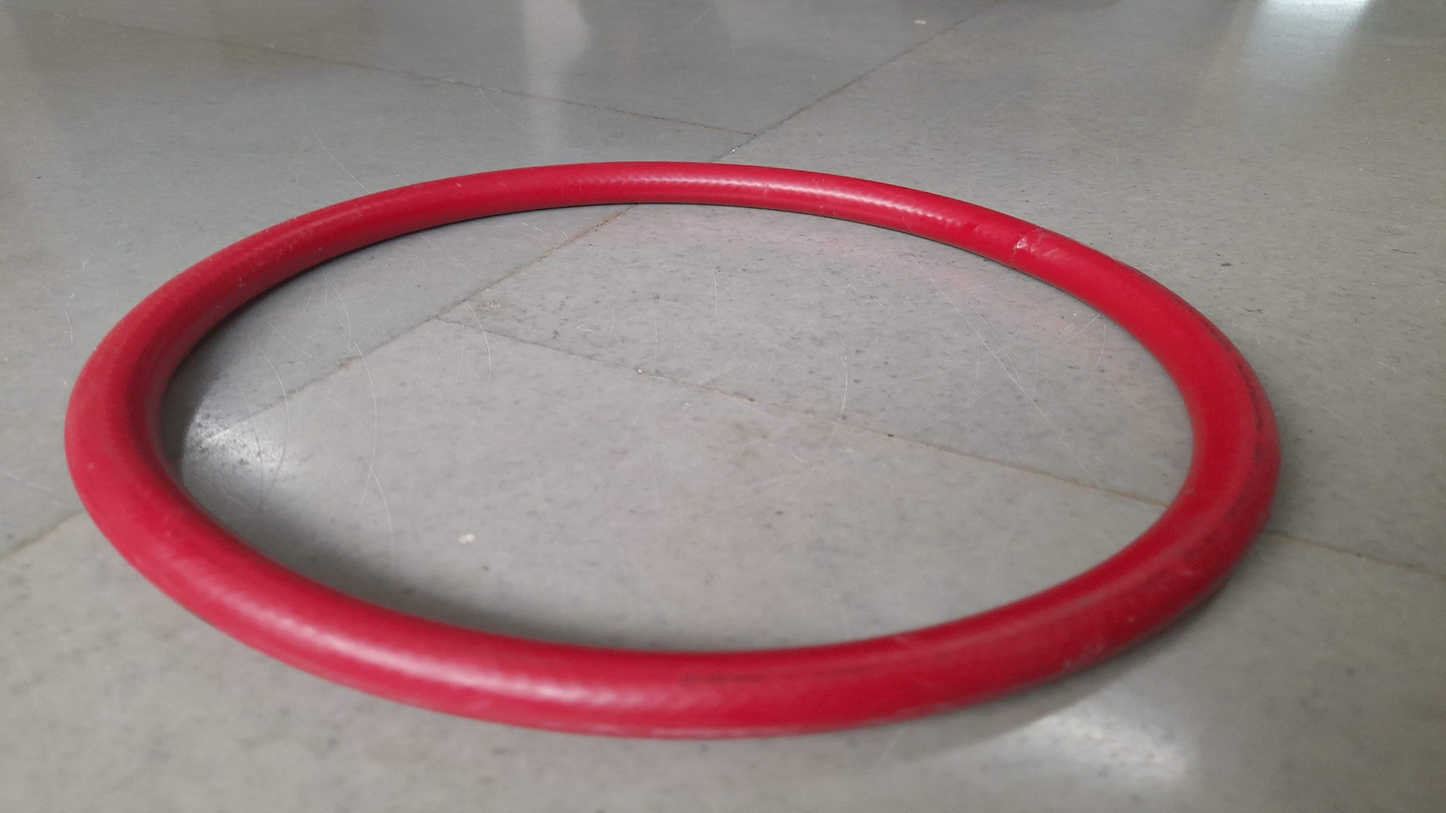Red ring: (68, 164, 1283, 735)
